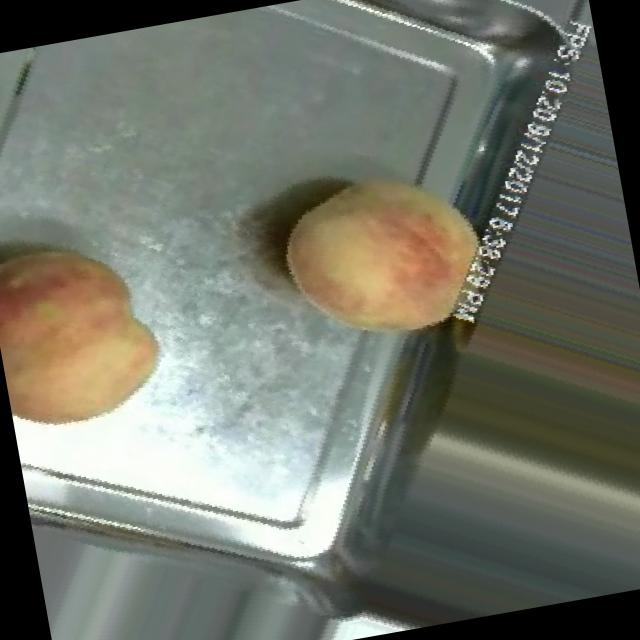Fruit: (243, 124, 532, 392), (0, 189, 195, 458)
